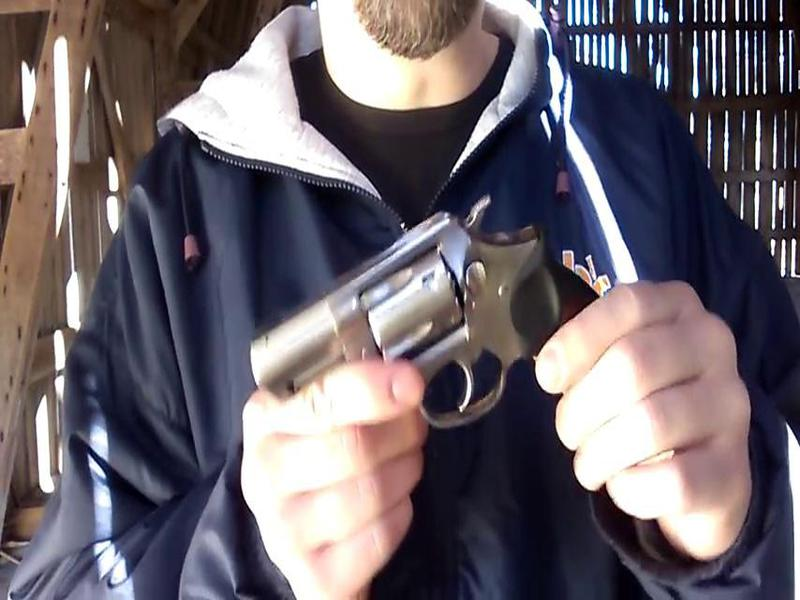Revolver: (188, 187, 589, 471)
